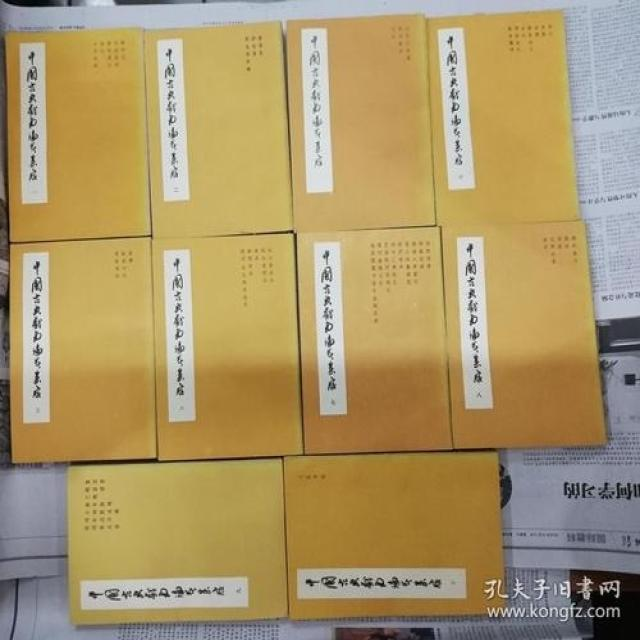box: (439, 219, 608, 452), (283, 451, 508, 622), (68, 457, 288, 626), (297, 226, 453, 456), (150, 231, 305, 461), (10, 237, 157, 464), (285, 12, 436, 231), (142, 20, 294, 237), (428, 9, 580, 226), (5, 27, 150, 242)
